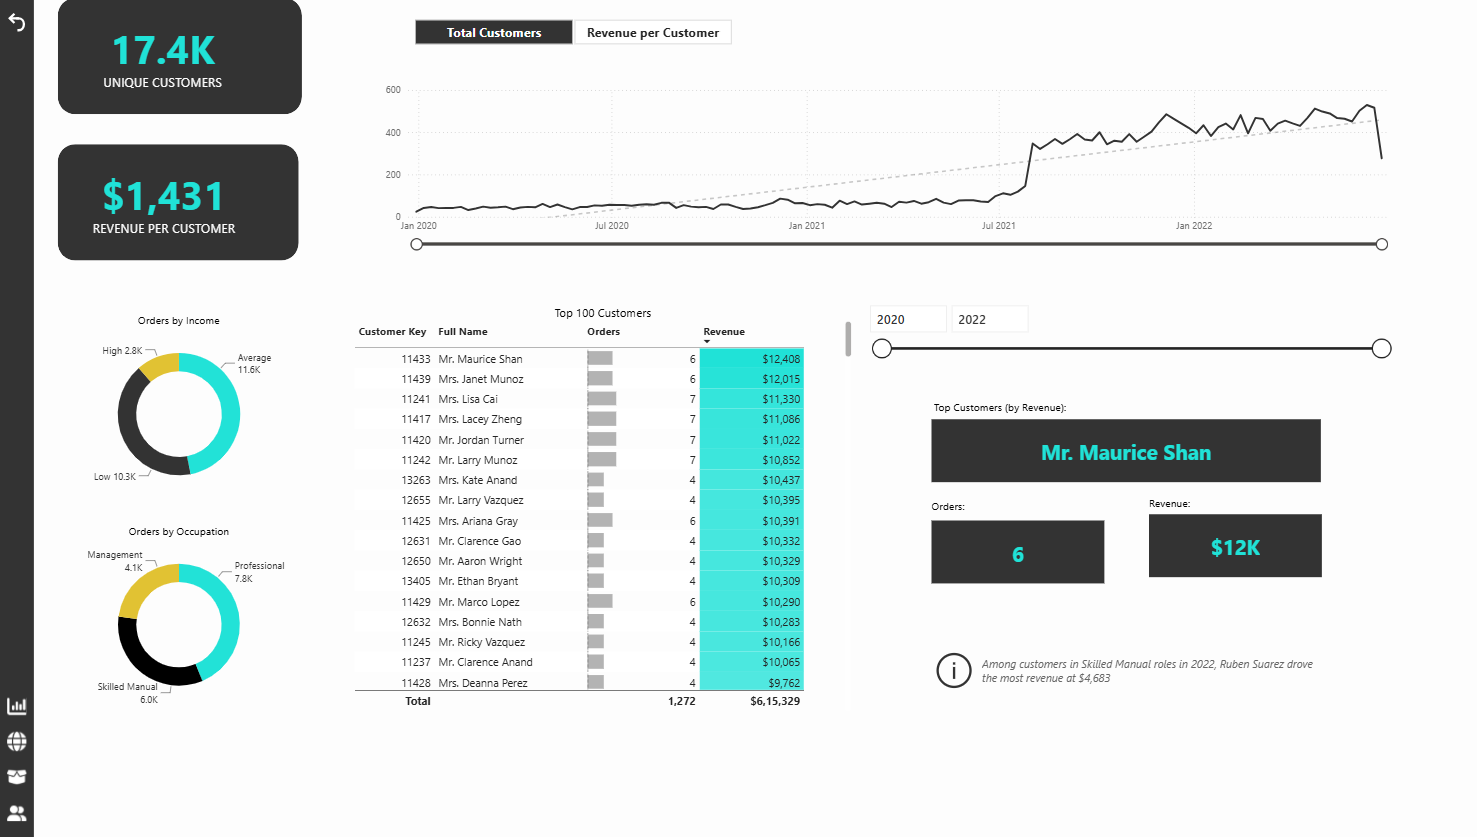

What the dashboard file says about the page in this screenshot:
{"tool":"powerbi","page":{"name":"Customer Detail","canvas":[1920,1080],"ordinal":3},"visuals":[{"type":"shape","title":"Left Nav Background","box":[0,0,45,1080],"z":0},{"type":"shape","box":[74.7,187.7,309.3,149.3],"z":1000},{"type":"card","fields":{"Values":["Measure Table.Average Revenue per Customer"]},"box":[40.3,187.1,343.5,150],"z":2000},{"type":"shape","box":[74.7,0,313.6,149.3],"z":3000},{"type":"card","fields":{"Values":["Measure Table.Total Customers"]},"box":[32,0,356.3,149.3],"z":4000},{"type":"donutChart","title":"Orders by Income","fields":{"Category":["Customer Lookup.Income Level"],"Y":["Measure Table.Total Orders"]},"box":[74.2,390.3,314.5,271],"z":5000},{"type":"donutChart","title":"Orders by Occupation","fields":{"Category":["Customer Lookup.Occupation"],"Y":["Measure Table.Total Orders"]},"box":[74.2,661.3,314.5,269.4],"z":6000},{"type":"tableEx","title":"Top 100 Customers","fields":{"Values":["Customer Lookup.CustomerKey","Customer Lookup.Full Name","Measure Table.Total Orders","Measure Table.Total Revenue"]},"box":[440.6,378.4,671.5,552.5],"z":7000},{"type":"cardVisual","fields":{"Data":["Measure Table.Full Name (Customer Detail)"]},"box":[1197.6,540.7,501,81.7],"z":8000},{"type":"cardVisual","fields":{"Data":["Measure Table.Total Orders (Customer Detail)"]},"box":[1197.6,670.6,222.1,81.7],"z":9000},{"type":"cardVisual","fields":{"Data":["Measure Table.Total Revenue (Customer Detail)"]},"box":[1476.5,663.5,222.1,81.7],"z":10000},{"type":"textbox","box":[1476.5,638.4,222.1,28.4],"z":11000},{"type":"textbox","box":[1197.6,642.1,222.1,28.4],"z":12000},{"type":"textbox","box":[1200.4,514.5,235.4,27.1],"z":13000},{"type":"slicer","fields":{"Values":["Calendar Lookup.Year"]},"box":[1110.4,389.6,681.2,150],"z":14000},{"type":"lineChart","title":"Weekly Customer","fields":{"Category":["Calendar Lookup.Date Hierarchy.Start of Year","Calendar Lookup.Date Hierarchy.Start of Month","Calendar Lookup.Date Hierarchy.Start of Week","Calendar Lookup.Date Hierarchy.Date"],"Y":["Measure Table.Total Customers"]},"box":[480.4,94.6,1335.7,242.9],"z":15000},{"type":"actionButton","box":[0,2,45,59],"z":16000},{"type":"actionButton","box":[1197.9,795.8,500.5,135.1],"z":17000},{"type":"actionButton","box":[0.2,889.8,45.4,41.7],"z":18000},{"type":"actionButton","box":[0.2,934.6,45.4,41.7],"z":19000},{"type":"actionButton","box":[0.2,979.3,45.4,42.6],"z":20000},{"type":"actionButton","box":[0.2,1025,45.4,42.6],"z":21000},{"type":"slicer","fields":{"Values":["Customer Metric Selection.Customer Metric Selection"]},"box":[514.3,25,446.4,35.7],"z":21501}]}

Visuals, with their boxes on the page's 1920x1080 design canvas (x1, y1, x2, y2). These are canvas units, not pixel positions in the 1477x837 screenshot, which may show the page scaled, cropped or inside an application window:
"Left Nav Background" shape: Rect(0, 0, 45, 1080)
shape: Rect(75, 188, 384, 337)
card - Measure Table.Average Revenue per Customer: Rect(40, 187, 384, 337)
shape: Rect(75, 0, 388, 149)
card - Measure Table.Total Customers: Rect(32, 0, 388, 149)
"Orders by Income" donutChart: Rect(74, 390, 389, 661)
"Orders by Occupation" donutChart: Rect(74, 661, 389, 931)
"Top 100 Customers" tableEx: Rect(441, 378, 1112, 931)
cardVisual - Measure Table.Full Name (Customer Detail): Rect(1198, 541, 1699, 622)
cardVisual - Measure Table.Total Orders (Customer Detail): Rect(1198, 671, 1420, 752)
cardVisual - Measure Table.Total Revenue (Customer Detail): Rect(1476, 664, 1699, 745)
textbox: Rect(1476, 638, 1699, 667)
textbox: Rect(1198, 642, 1420, 670)
textbox: Rect(1200, 514, 1436, 542)
slicer - Calendar Lookup.Year: Rect(1110, 390, 1792, 540)
"Weekly Customer" lineChart: Rect(480, 95, 1816, 338)
actionButton: Rect(0, 2, 45, 61)
actionButton: Rect(1198, 796, 1698, 931)
actionButton: Rect(0, 890, 46, 932)
actionButton: Rect(0, 935, 46, 976)
actionButton: Rect(0, 979, 46, 1022)
actionButton: Rect(0, 1025, 46, 1068)
slicer - Customer Metric Selection.Customer Metric Selection: Rect(514, 25, 961, 61)
